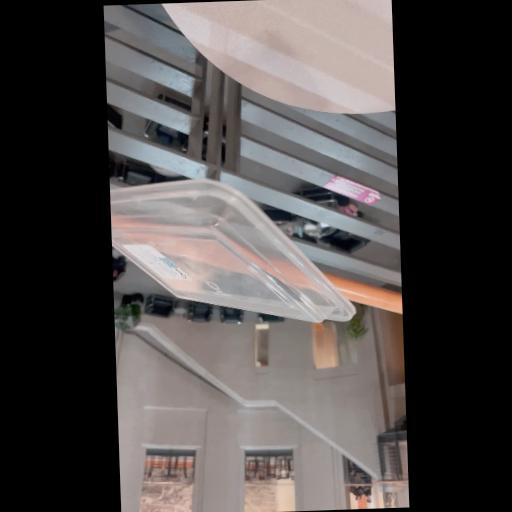rigid_plastic_lid: (110, 172, 356, 332)
